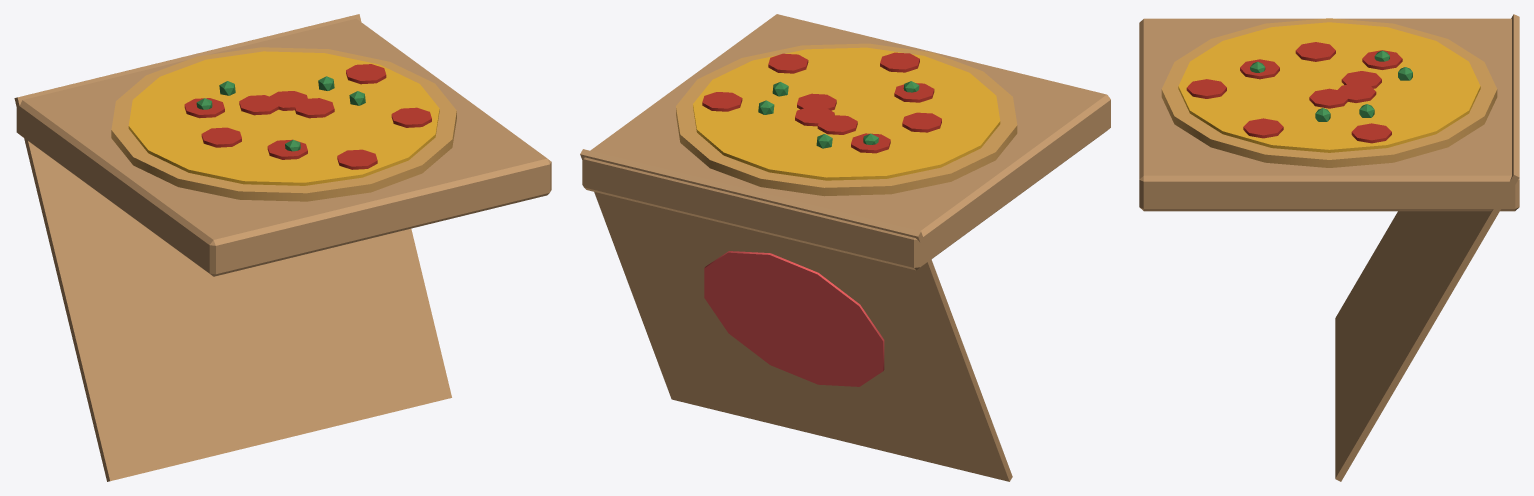
File: pizza_box.glb
The picture shows the model from 3 angles, left to right: view 1: azimuth 30°, elevation 25°; view 2: azimuth 150°, elevation 25°; view 3: azimuth 270°, elevation 25°; orthographic projection. The views are drawn at different scales.
Visible parts, largest first — view 1: pizza_box; view 2: pizza_box; view 3: pizza_box.
Boxes of the visible parts, bbox=[...] form: pizza_box: bbox=[14, 14, 551, 481]; pizza_box: bbox=[580, 14, 1110, 481]; pizza_box: bbox=[1139, 14, 1519, 481].
Size of the model in its own units: 0.34 by 0.3222 by 0.34.
